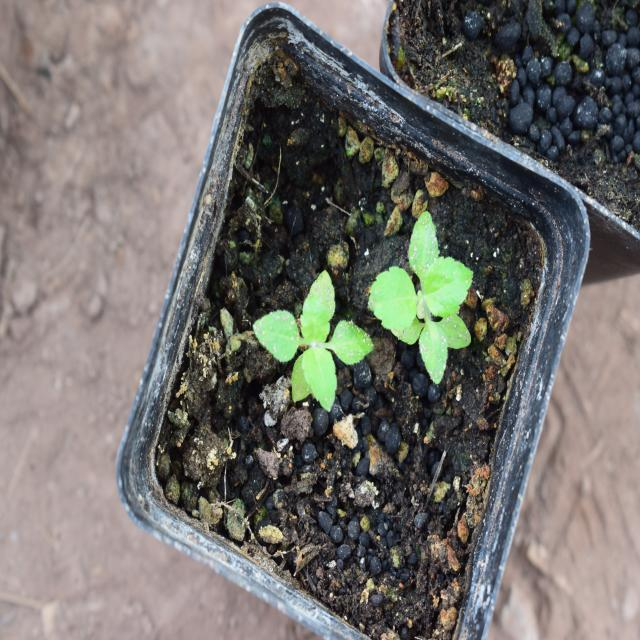billygoat_weed: (380, 210, 488, 390), (267, 260, 379, 433)
